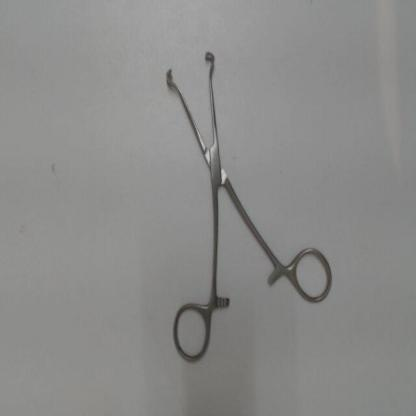Babcock Tissue Forceps: (162, 45, 336, 368)
